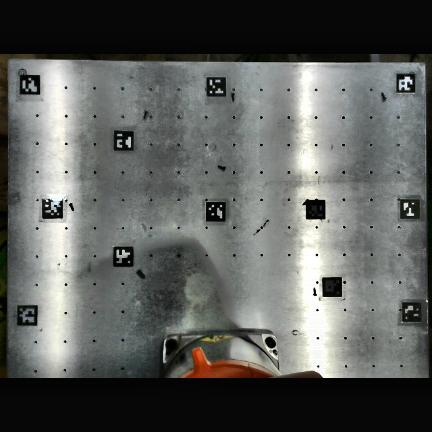black_screw: (135, 268, 143, 275), (68, 204, 74, 212), (230, 94, 236, 102), (303, 198, 309, 205), (381, 92, 385, 97), (144, 111, 148, 114), (314, 288, 316, 294), (222, 167, 225, 170)
marker: (17, 304, 38, 325), (400, 198, 420, 219), (42, 198, 62, 218), (113, 246, 133, 266), (114, 130, 134, 150), (206, 75, 226, 95), (403, 300, 422, 321), (206, 201, 225, 222), (20, 75, 40, 94), (396, 73, 415, 93), (306, 200, 325, 219), (323, 278, 342, 296)
